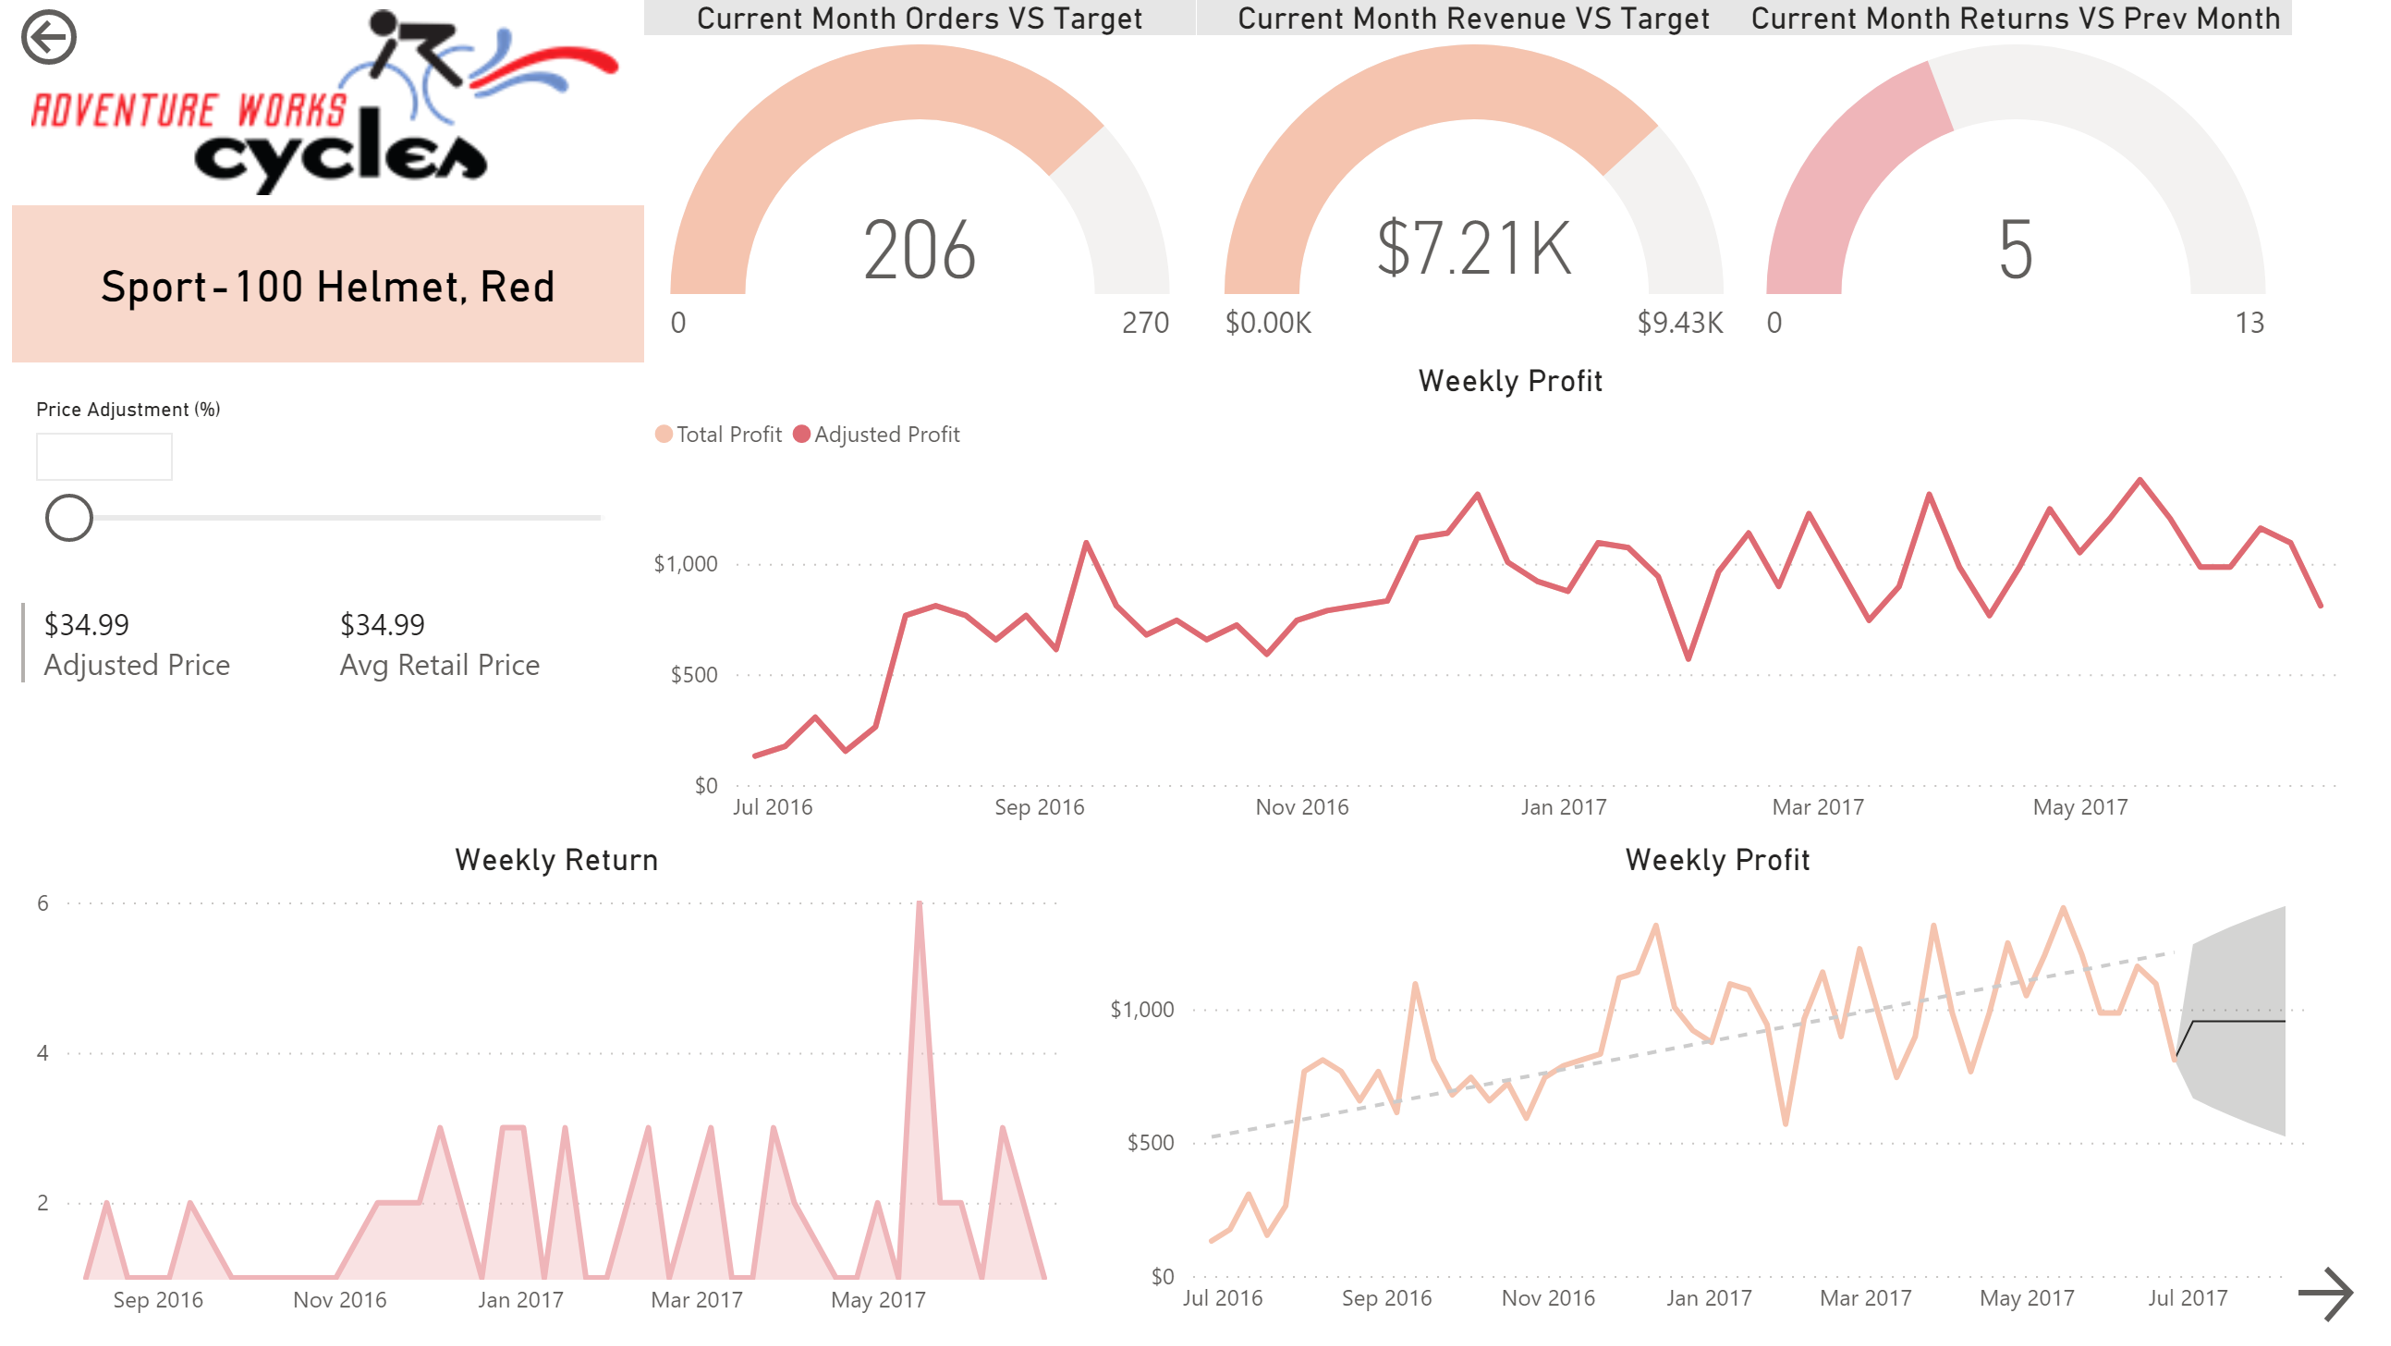

The page's visual inventory and layout, read from the dashboard file:
{"tool":"powerbi","page":{"name":"Product Details","canvas":[1280,720],"ordinal":1},"visuals":[{"type":"image","box":[0,0,342,110.5],"z":0},{"type":"lineChart","title":"Weekly Profit","fields":{"Y":["AW_Sales2015-2017.Total Profit"],"Category":["AW_Calendar_Lookup.Start of Week"]},"box":[589.3,455,668,265],"z":1000},{"type":"areaChart","title":"Weekly Return","fields":{"Category":["AW_Calendar_Lookup.Start of Week"],"Y":["AW_Returns.Total Returns"]},"box":[0,454.6,589.4,266],"z":2000},{"type":"gauge","title":"Current Month Orders VS Target","fields":{"Y":["AW_Sales2015-2017.Total Orders"],"MaxValue":["AW_Sales2015-2017.Order Target"]},"box":[342,0,298.7,195.7],"z":3000},{"type":"gauge","title":"Current Month Revenue VS Target","fields":{"Y":["AW_Sales2015-2017.Total Revenue"],"MaxValue":["AW_Sales2015-2017.Revenue Target"]},"box":[640.7,0,300.2,195.7],"z":4000},{"type":"gauge","title":"Current Month Returns VS Prev Month","fields":{"Y":["AW_Returns.Total Returns"],"MaxValue":["AW_Sales2015-2017.Prev Month Returns"]},"box":[935,0,298.7,195.7],"z":5000},{"type":"card","fields":{"Values":["Min(AW_Product_lookup.ProductName)"]},"box":[0,110.5,342,85.1],"z":6000},{"type":"actionButton","box":[0,0,100,40],"z":7000},{"type":"slicer","fields":{"Values":["Price Adjustment (%).Price Adjustment (%)"]},"box":[0,209.8,342.2,111.1],"z":8000},{"type":"multiRowCard","fields":{"Values":["AW_Product_lookup.Adjusted Price","AW_Product_lookup.Avg Retail Price"]},"box":[0,320.9,342.2,81.2],"z":9000},{"type":"lineChart","title":"Weekly Profit","fields":{"Y":["AW_Sales2015-2017.Total Profit","AW_Sales2015-2017.Adjusted Profit"],"Category":["AW_Calendar_Lookup.Start of Week"]},"box":[342.2,196.1,937.8,258.5],"z":10000},{"type":"actionButton","box":[1230.7,680.1,49.6,39.9],"z":10001}]}

Visuals, with their boxes in screenshot pixels (x1, y1, x2, y2), scaled from the page's 1280x720 canvas onto the 2391x1346 screenshot:
image: [0,0,639,207]
"Weekly Profit" lineChart: [1101,851,2349,1345]
"Weekly Return" areaChart: [0,850,1101,1345]
"Current Month Orders VS Target" gauge: [639,0,1197,366]
"Current Month Revenue VS Target" gauge: [1197,0,1758,366]
"Current Month Returns VS Prev Month" gauge: [1747,0,2305,366]
card - Min(AW_Product_lookup.ProductName): [0,207,639,366]
actionButton: [0,0,187,75]
slicer - Price Adjustment (%).Price Adjustment (%): [0,392,639,600]
multiRowCard - AW_Product_lookup.Adjusted Price x AW_Product_lookup.Avg Retail Price: [0,600,639,752]
"Weekly Profit" lineChart: [639,367,2390,850]
actionButton: [2299,1271,2390,1345]
